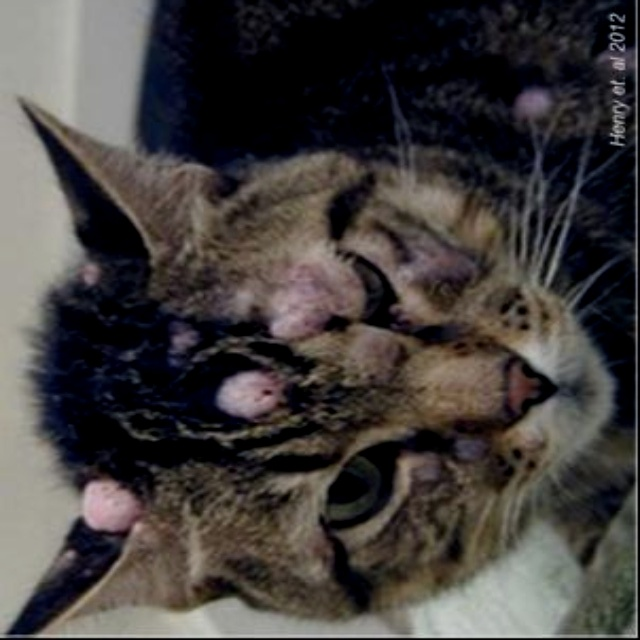lump_and_bump: (268, 257, 341, 343), (78, 472, 140, 535), (218, 372, 276, 414), (511, 86, 557, 114), (454, 436, 487, 459), (82, 259, 103, 282)
